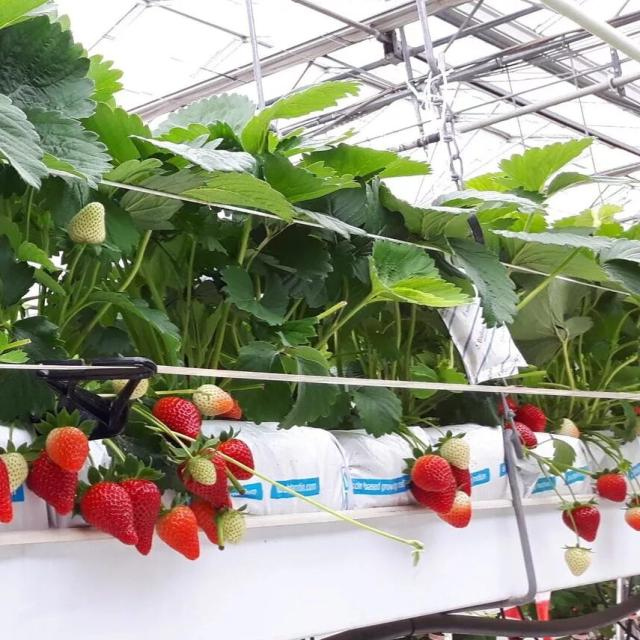Ripe Strawberry: (81, 482, 138, 543), (26, 452, 77, 514), (120, 480, 160, 556), (182, 454, 234, 509), (154, 398, 201, 437), (412, 456, 456, 490), (216, 440, 254, 479), (410, 481, 456, 513), (562, 507, 599, 540), (193, 498, 218, 546), (0, 458, 13, 522), (506, 424, 537, 448), (518, 406, 546, 430), (598, 476, 626, 500), (498, 399, 515, 417)
